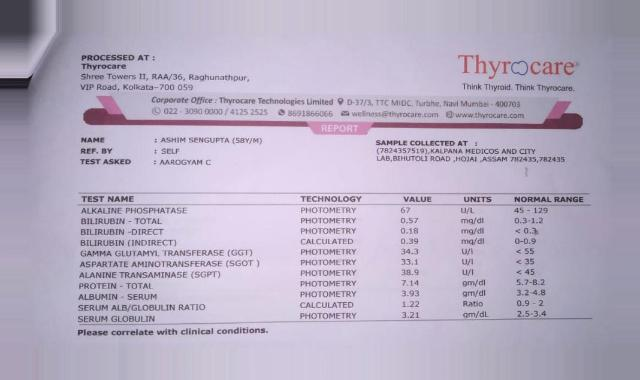Name: (159, 133, 267, 144)
Ref_By: (159, 146, 182, 156)
Reference_Range: (507, 205, 568, 320)
Technology: (295, 204, 366, 322)
Test_Asked: (158, 158, 216, 168)
Test_Name: (73, 204, 269, 326)
Unit: (456, 204, 498, 322)
Value: (396, 205, 434, 324)
